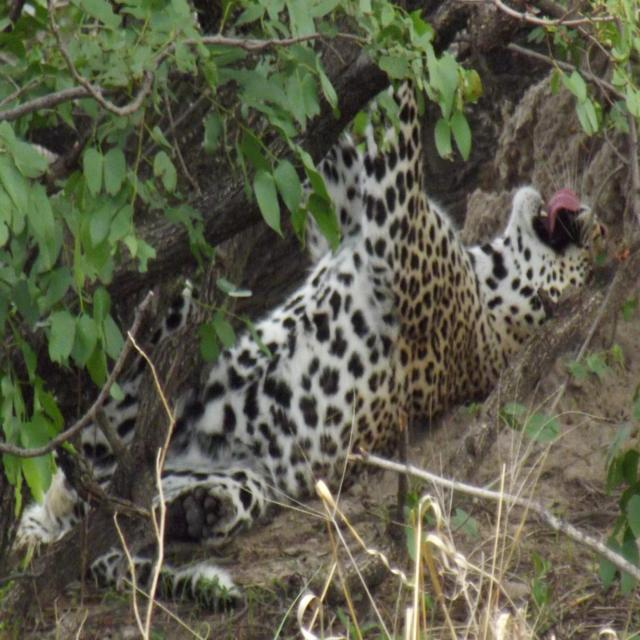Leopard: (2, 62, 624, 576)
